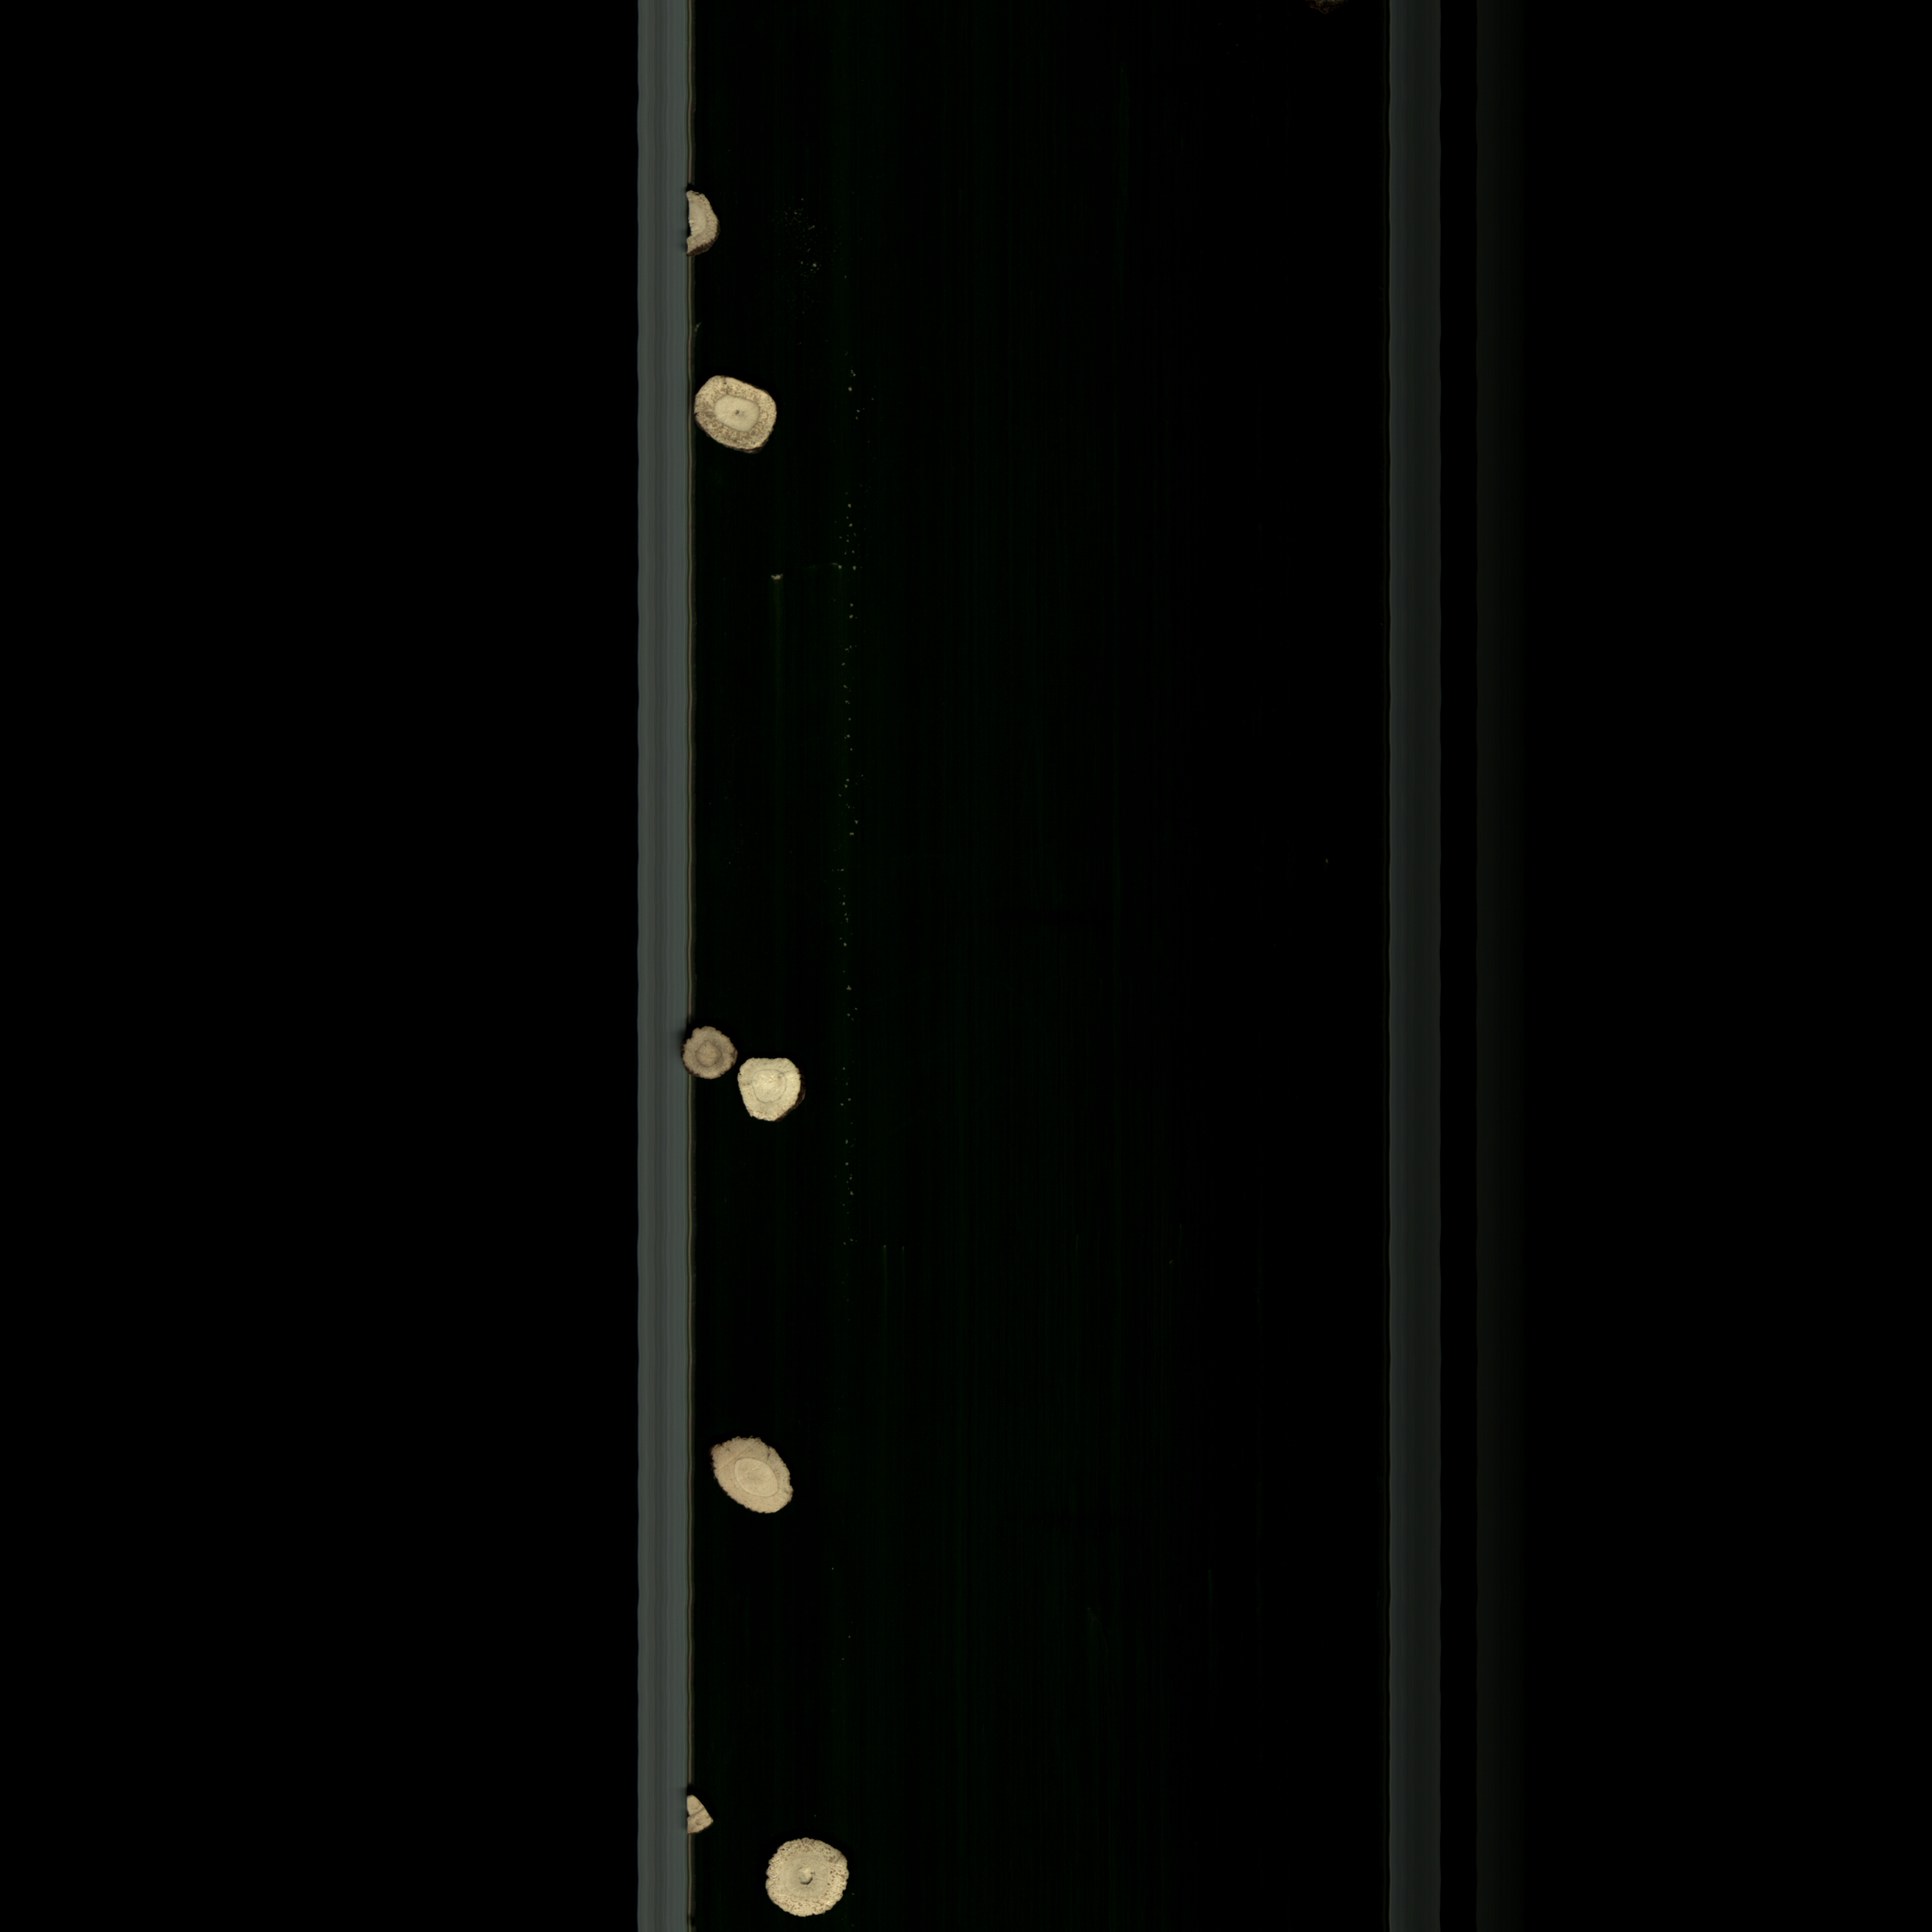distortion: (706, 1437, 809, 1520)
dreg: (672, 180, 729, 258), (678, 1785, 718, 1842)
moldy: (688, 370, 794, 469), (683, 1017, 738, 1088)
